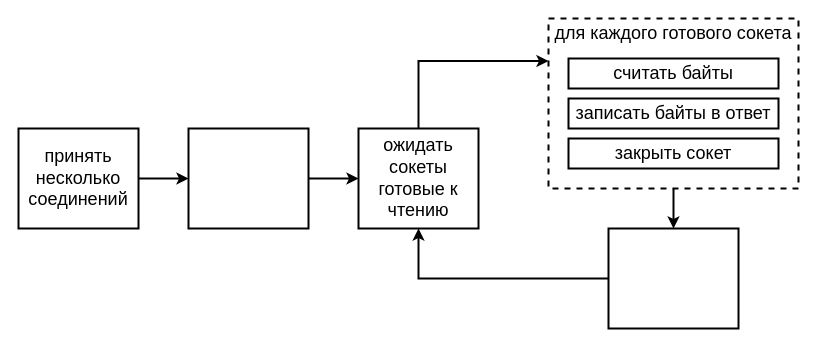
Some shapes in this 816 by 346 pixel diagram are drawn without their labels. Each missing label, with the centre of its shape:
поместить дескрипторы сокетов в массив: the point at 248,178
удалить из массива обработанные сокеты: the point at 673,278
